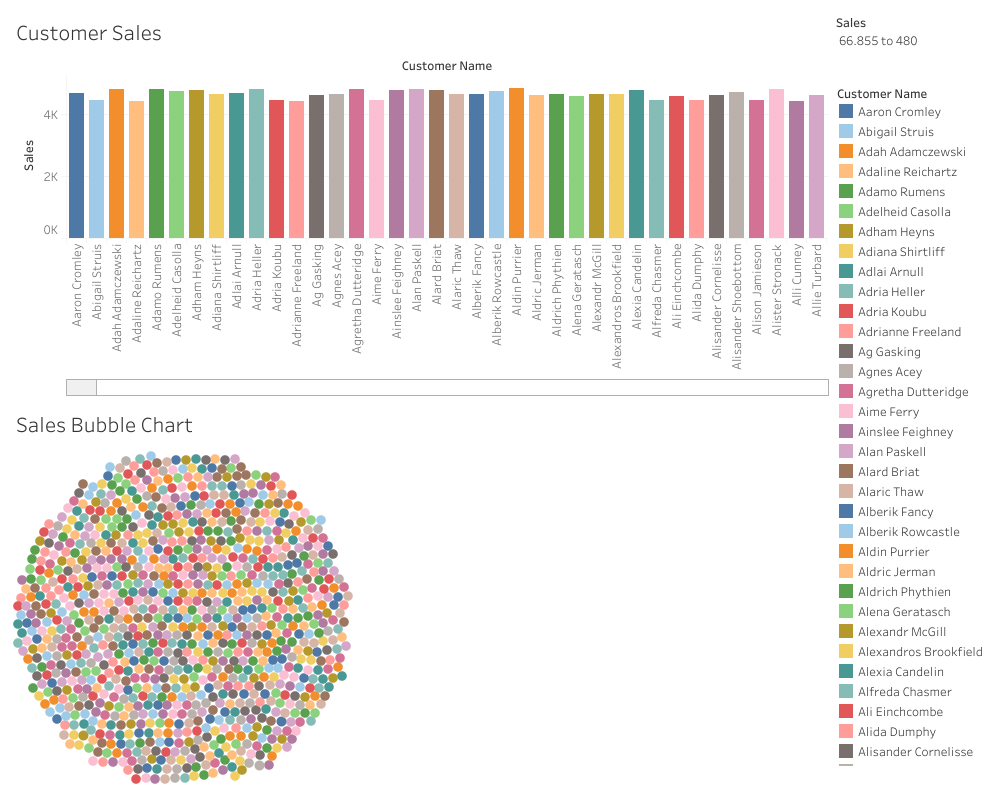

What the dashboard file says about the page in this screenshot:
{"tool":"tableau","page":{"name":"Customer Dashboard","canvas":[1000,800],"ordinal":0},"visuals":[{"type":"worksheet","title":"Customer Sales","mark":"Automatic","rows":["Sales"],"cols":["Customer Name"],"box":[8,8,824,392]},{"type":"filter","title":"Customer Sales","param":"[federated.087wxxt0b8zet116kzjuw1eambch].[none:Sales:qk]","box":[832,8,160,70]},{"type":"legend","title":"Customer Sales","param":"[federated.087wxxt0b8zet116kzjuw1eambch].[none:Customer Name:nk]","box":[832,78,160,692]},{"type":"worksheet","title":"Sales Bubble Chart","mark":"Circle","box":[8,400,824,392]},{"type":"legend","title":"Sales Bubble Chart","param":"[federated.087wxxt0b8zet116kzjuw1eambch].[sum:Calculation_2195152988314267659:qk","box":[832,770,160,22]}]}

Visuals, with their boxes in screenshot pixels (x1, y1, x2, y2), scaled from the page's 1000x800 canvas onto the 999x799 screenshot:
"Customer Sales" worksheet: Rect(8, 8, 831, 400)
"Customer Sales" filter: Rect(831, 8, 991, 78)
"Customer Sales" legend: Rect(831, 78, 991, 769)
"Sales Bubble Chart" worksheet (Circle marks): Rect(8, 400, 831, 791)
"Sales Bubble Chart" legend: Rect(831, 769, 991, 791)
